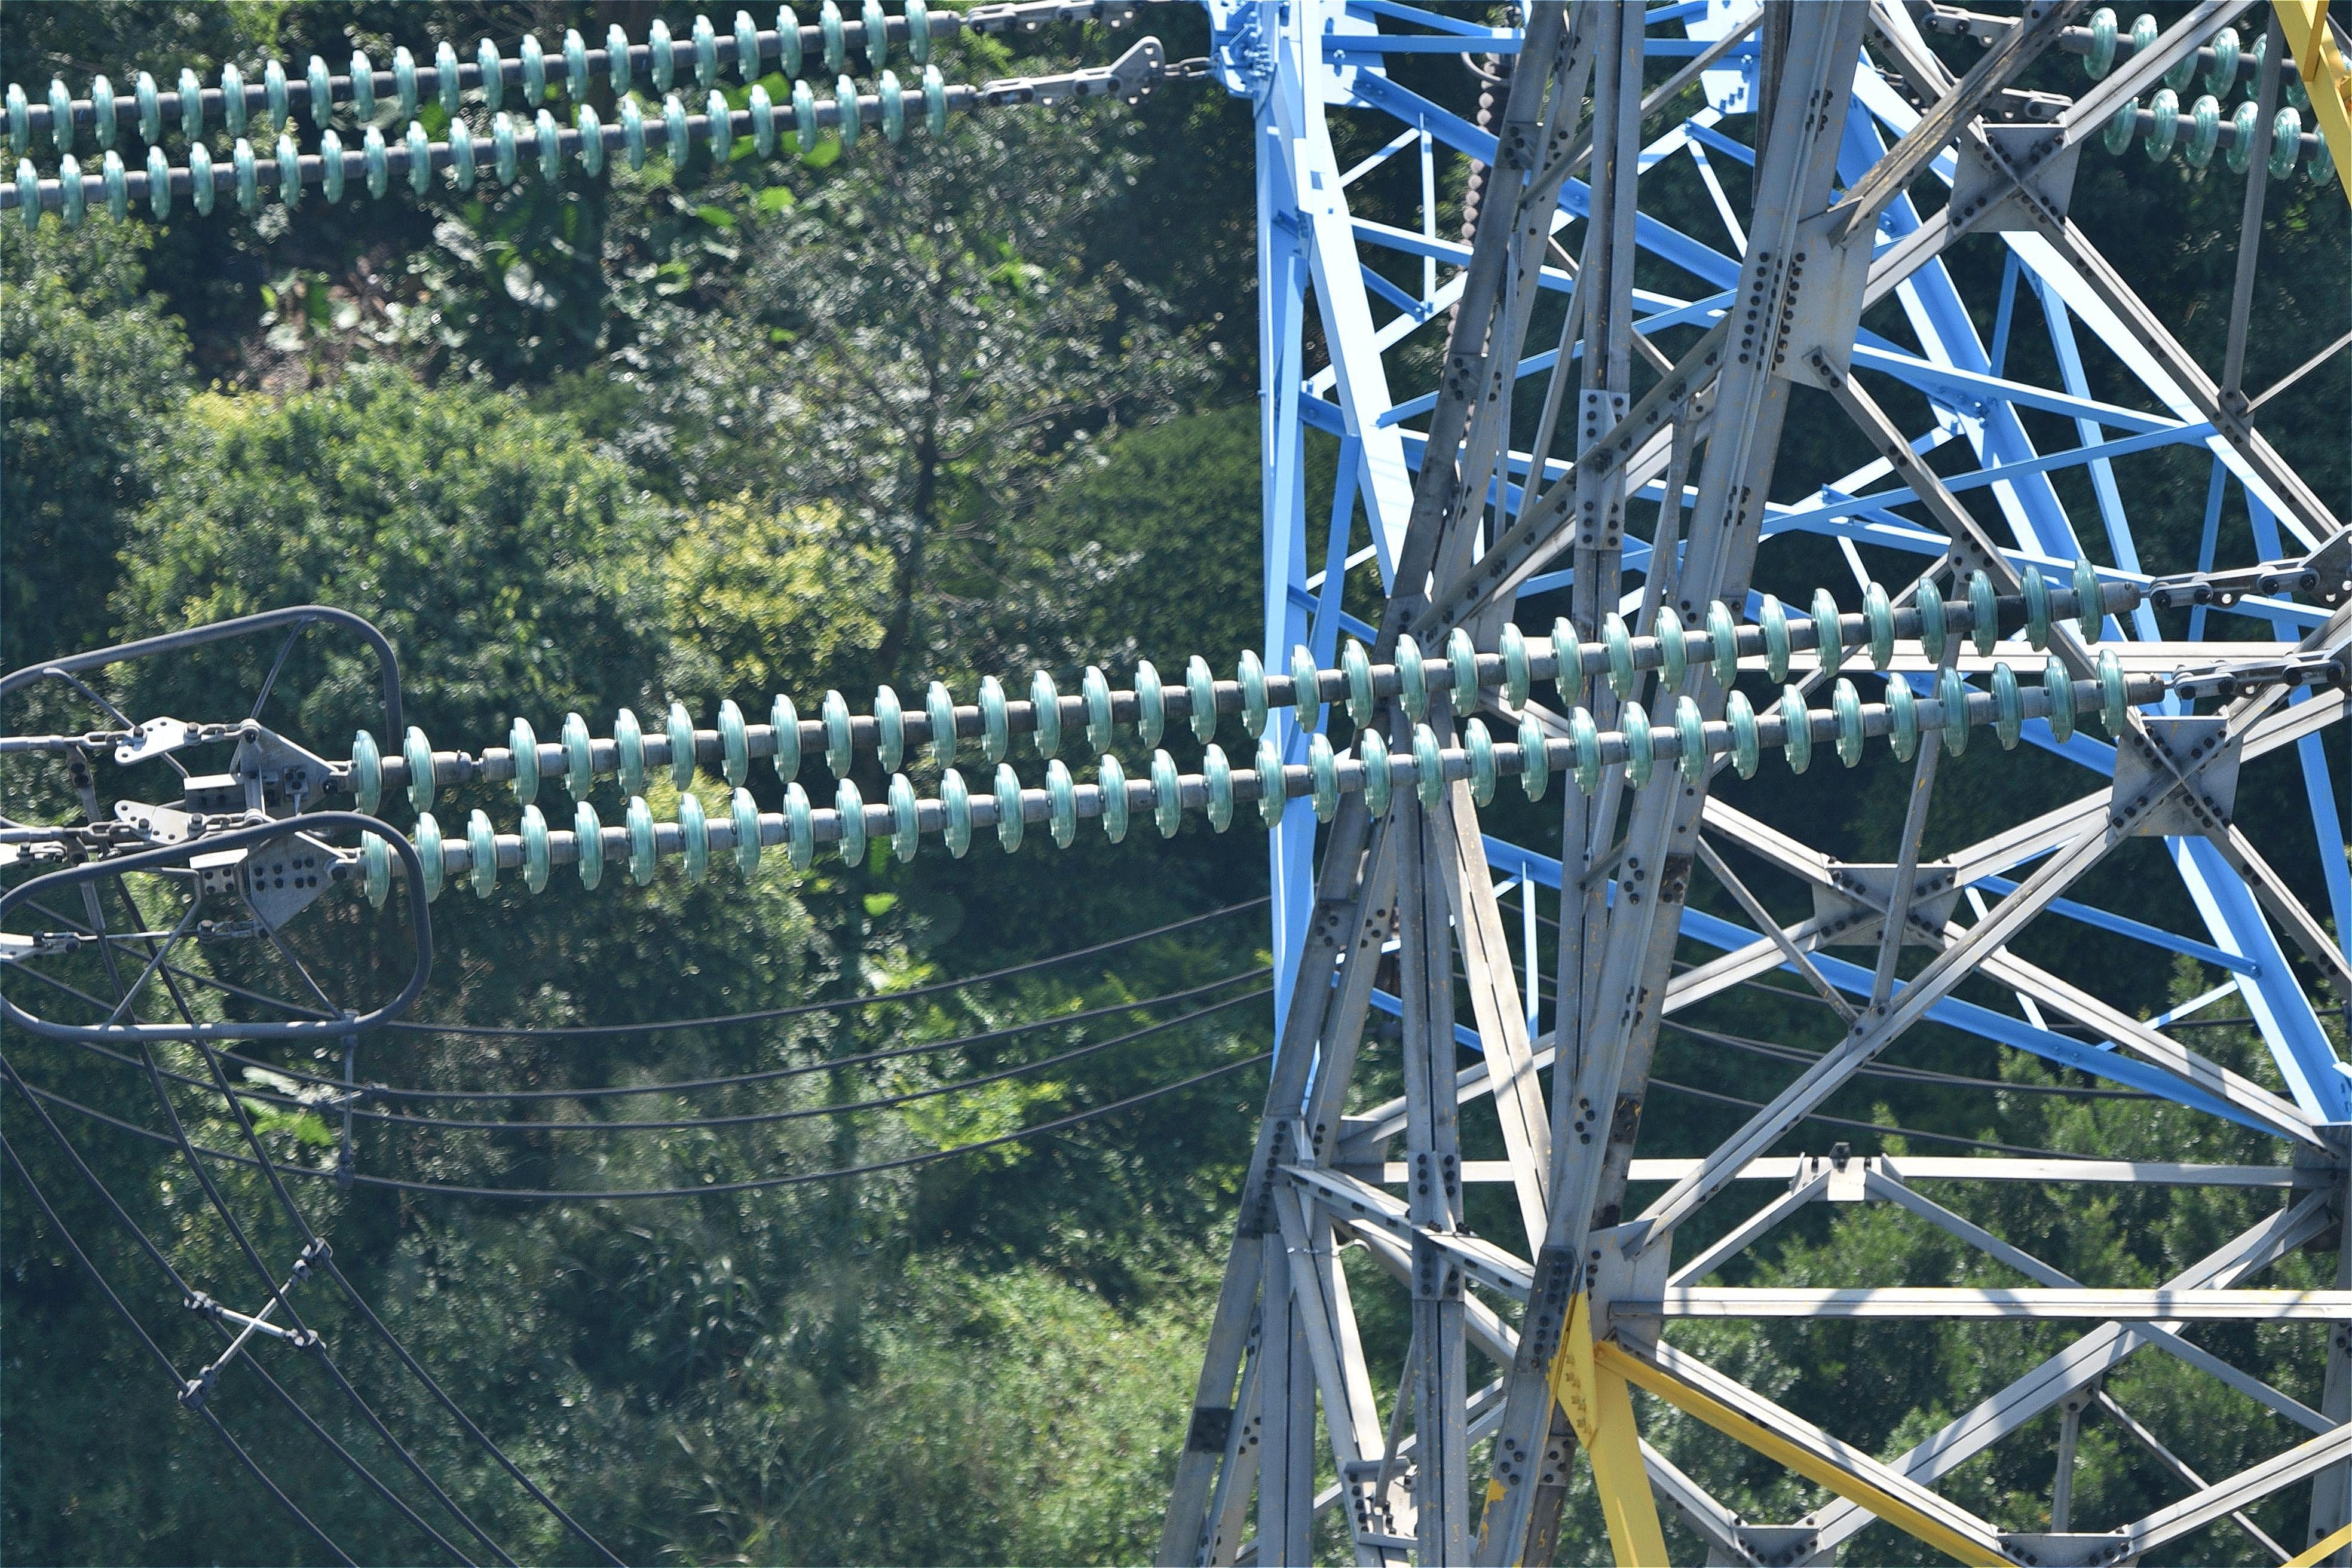insultor3: (345, 560, 2135, 908), (2, 2, 950, 227)
